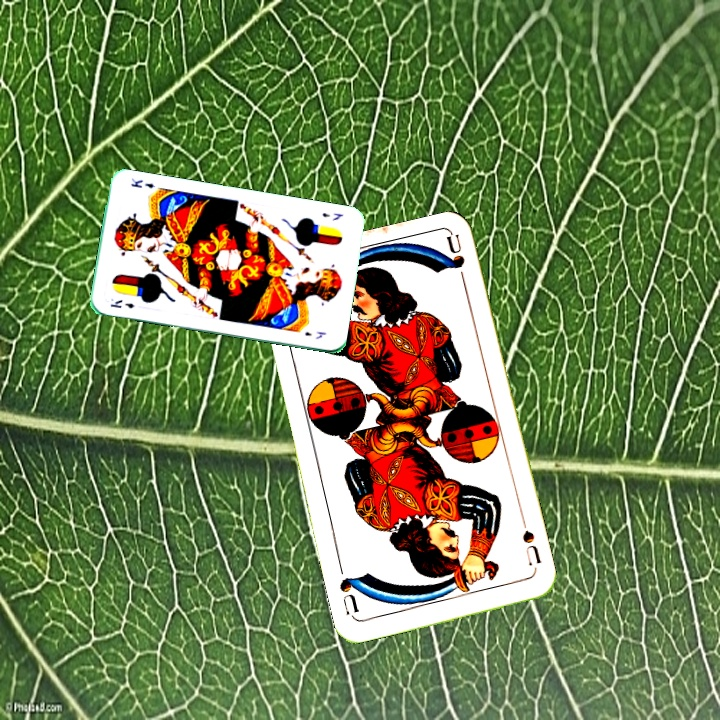EK: (106, 296, 137, 311), (318, 209, 345, 223)
SU: (518, 526, 544, 569)
